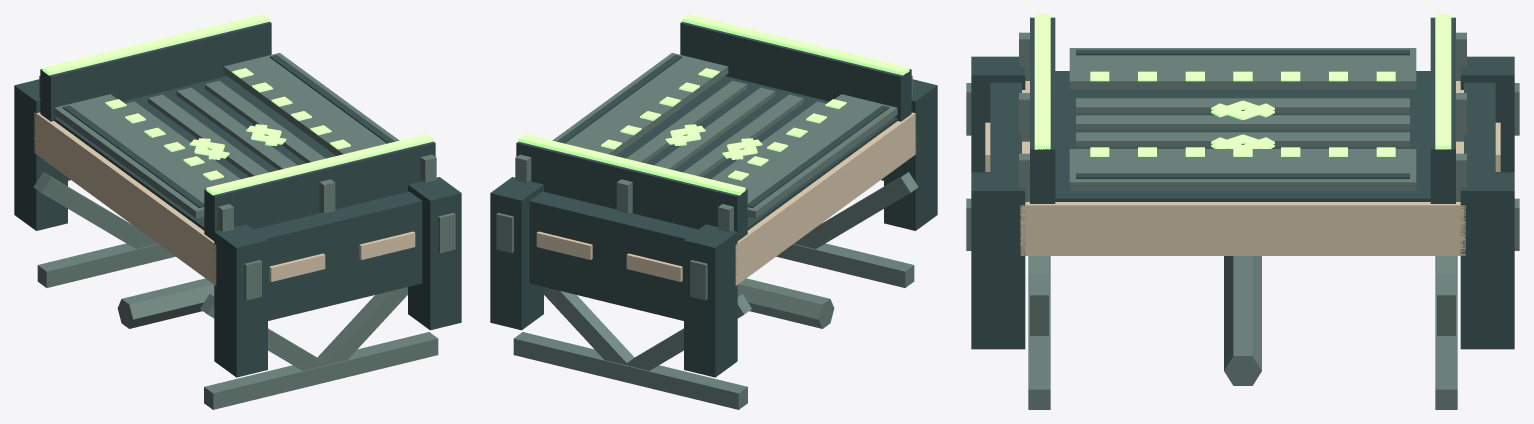
File: Deck_Conveyor_Belt_v4_2.glb
3 renders of one model, left to right at view 1: azimuth 30°, elevation 25°; view 2: azimuth 150°, elevation 25°; view 3: azimuth 270°, elevation 25°, orthographic. The views are drawn at different scales.
Parts seen in each view (by area): view 1: Deck_Conveyor_Belt_v4_2, Treads, TreadsRev; view 2: Deck_Conveyor_Belt_v4_2, Treads, TreadsRev; view 3: Deck_Conveyor_Belt_v4_2, Treads, TreadsRev.
Boxes of the visible parts, box(x1,y1,x2,y2) form: Deck_Conveyor_Belt_v4_2: box(14, 14, 461, 409); Treads: box(125, 80, 325, 181); TreadsRev: box(129, 83, 323, 181); Deck_Conveyor_Belt_v4_2: box(490, 14, 937, 409); Treads: box(626, 80, 826, 181); TreadsRev: box(631, 84, 817, 181); Deck_Conveyor_Belt_v4_2: box(966, 14, 1519, 409); Treads: box(1076, 98, 1409, 148); TreadsRev: box(1076, 98, 1409, 148).
Bounding box in the file's own units: 2.09 × 1.83 × 3.48.
